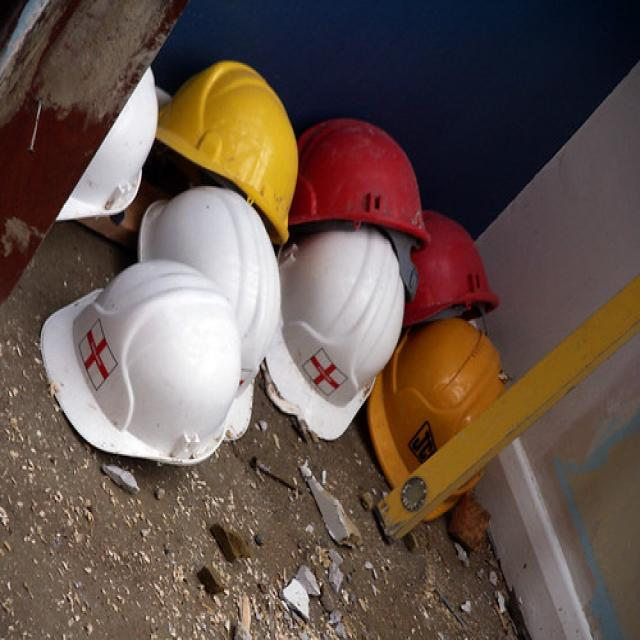Safety-Helmet: (32, 246, 236, 506), (275, 212, 427, 479), (381, 300, 527, 518), (156, 58, 305, 242), (288, 113, 431, 249)
